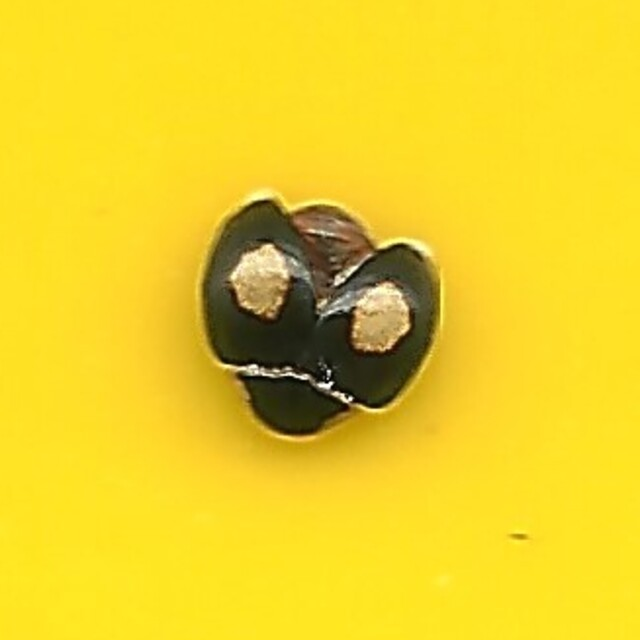Coleoptera: (196, 193, 444, 447)
